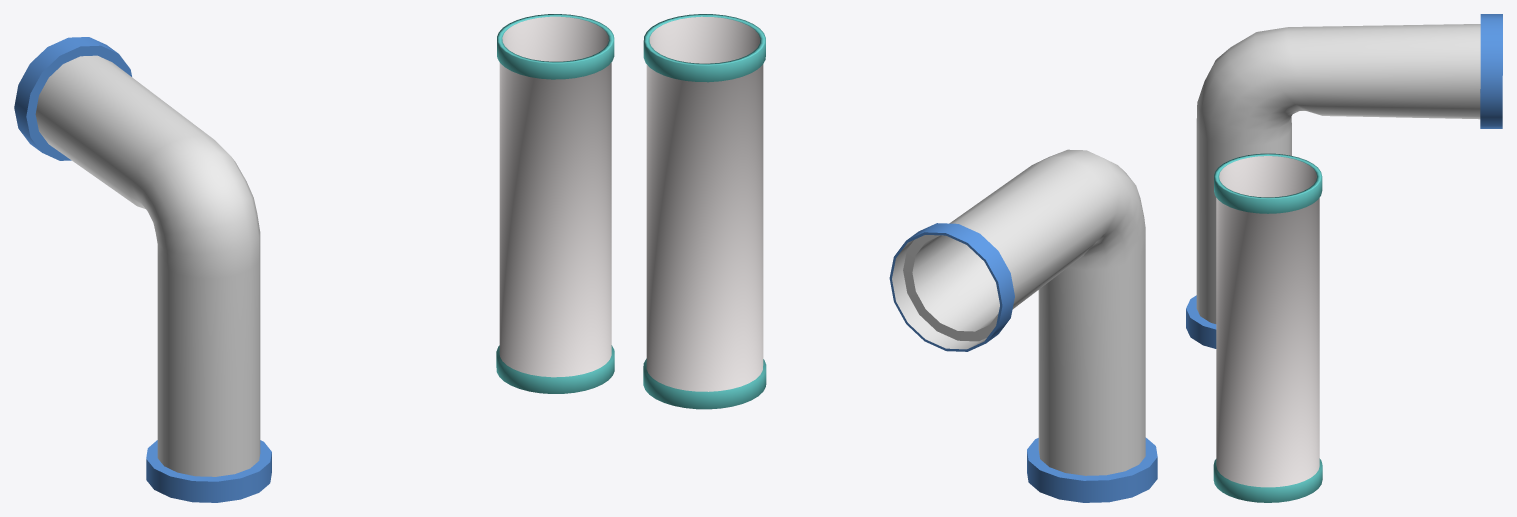
The model's file is _ipes (1).fbx.
The picture shows the model from 3 angles, left to right: view 1: azimuth 30°, elevation 25°; view 2: azimuth 150°, elevation 25°; view 3: azimuth 270°, elevation 25°; orthographic projection. The views are drawn at different scales.
Visible parts, largest first — view 1: Pipe, Cylinder; view 2: Pipe, Cylinder; view 3: Cylinder, Pipe.
Part boxes in pixels (left/top/right/bottom): Pipe: left=14, top=37, right=271, bottom=502; Cylinder: left=496, top=14, right=614, bottom=393; Pipe: left=889, top=149, right=1157, bottom=502; Cylinder: left=643, top=14, right=766, bottom=409; Cylinder: left=1213, top=153, right=1322, bottom=502; Pipe: left=1186, top=14, right=1502, bottom=348.
Bounding box in the file's own units: 393 × 274 × 252.
